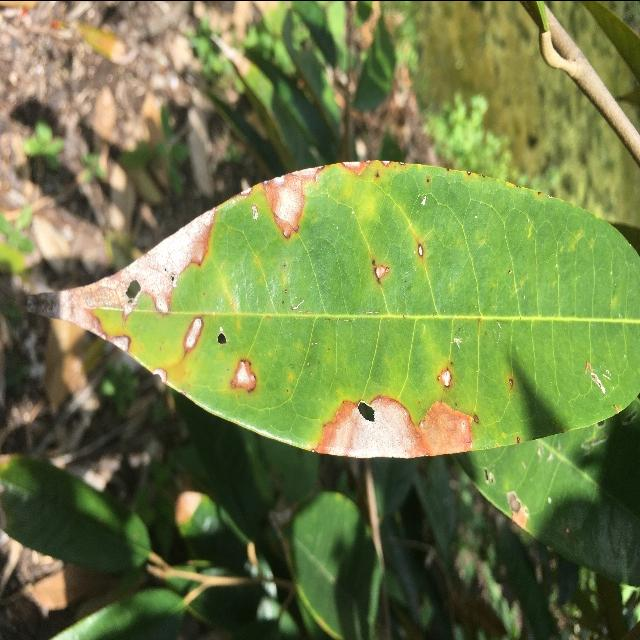Leaf Blight: (2, 151, 640, 466)
